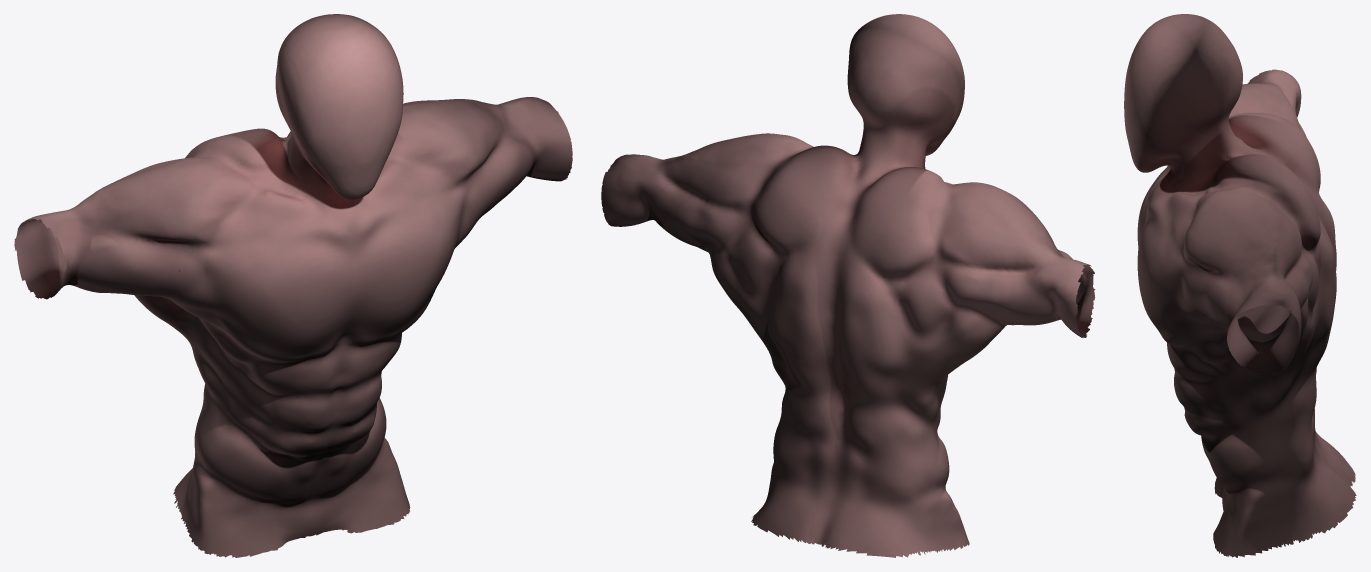
The model's file is human_torso.glb.
The picture shows the model from 3 angles, left to right: view 1: azimuth 30°, elevation 25°; view 2: azimuth 150°, elevation 25°; view 3: azimuth 270°, elevation 25°; orthographic projection. The views are drawn at different scales.
Visible parts, largest first — view 1: Sphere; view 2: Sphere; view 3: Sphere.
Boxes of the visible parts, left/top/right/bottom form: Sphere: left=14, top=14, right=572, bottom=557; Sphere: left=601, top=14, right=1095, bottom=557; Sphere: left=1124, top=14, right=1356, bottom=557.
Size of the model in its own units: 7.92 by 7.78 by 3.32.
Materials: 1 (1 with a texture image).
